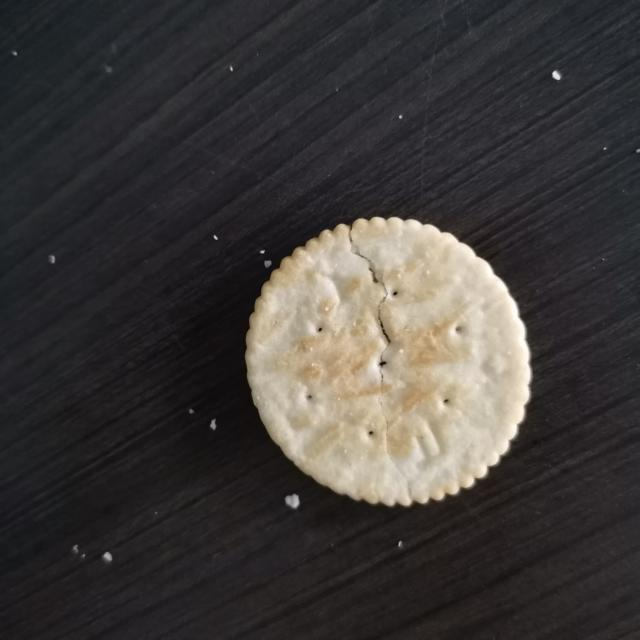Fracture: (335, 217, 430, 508)
